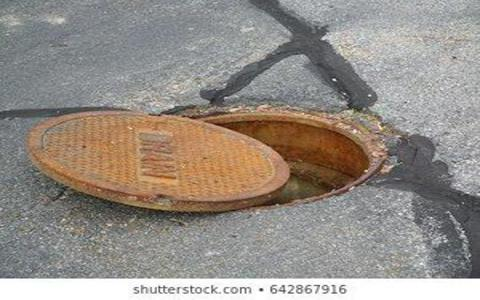open manhole: (172, 90, 392, 199)
